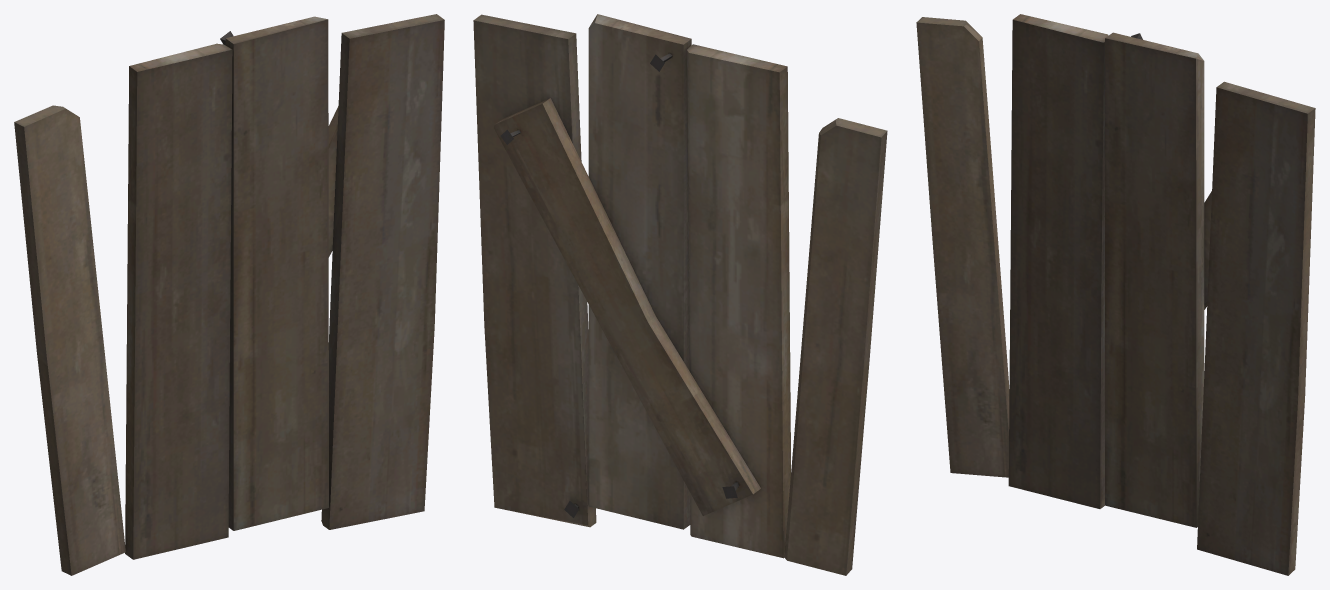
File: props_forest_wood_patch4_small.glb
3 views of the same model, side by side, from view 1: azimuth 30°, elevation 25°; view 2: azimuth 150°, elevation 25°; view 3: azimuth 330°, elevation 25° (orthographic). The views are drawn at different scales.
Visible parts, largest first — view 1: models/props_forest/wood_patch4_small; view 2: models/props_forest/wood_patch4_small; view 3: models/props_forest/wood_patch4_small.
Boxes of the visible parts, x1,y1,x2,y2 form: models/props_forest/wood_patch4_small: (14, 14, 444, 575); models/props_forest/wood_patch4_small: (473, 14, 887, 575); models/props_forest/wood_patch4_small: (916, 14, 1315, 575).
Size of the model in its own units: 67.84 by 80.28 by 8.15.
Materials: 1 (1 with a texture image).
